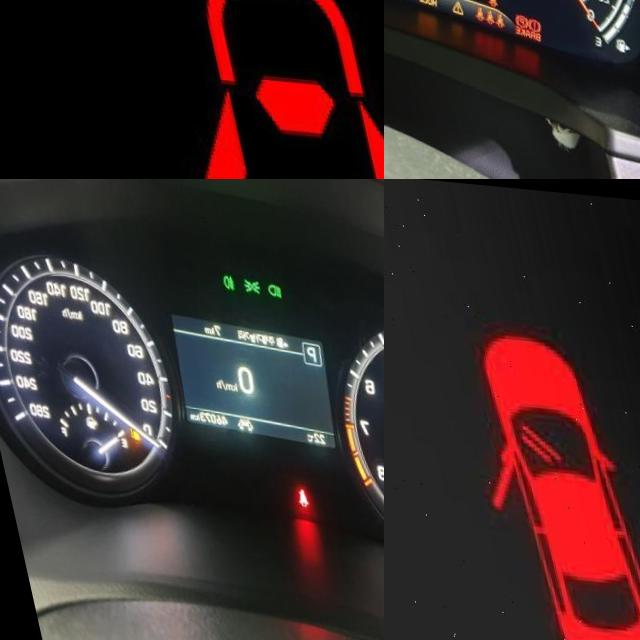Central Warning lamp: (432, 0, 449, 8)
FrontFogLight: (212, 266, 227, 284)
Low beam: (256, 275, 274, 292)
SideLamp: (232, 270, 253, 288)
